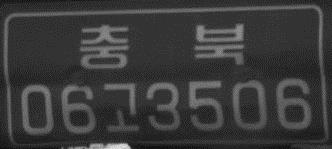0: (229, 77, 268, 133), (20, 81, 54, 136)
3: (145, 80, 180, 135)
5: (187, 77, 224, 135)
6: (272, 76, 313, 135), (58, 80, 97, 137)
고: (101, 81, 139, 135)
충북_D: (78, 17, 248, 71)
